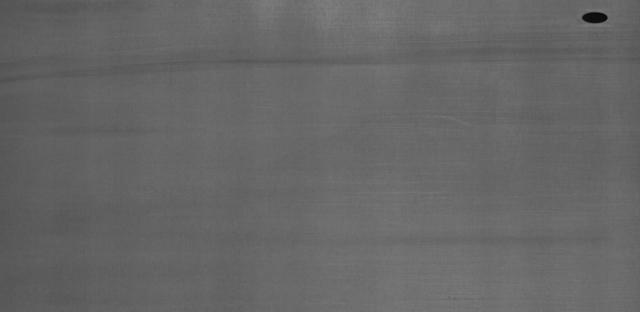punching_hole: (577, 8, 611, 27)
